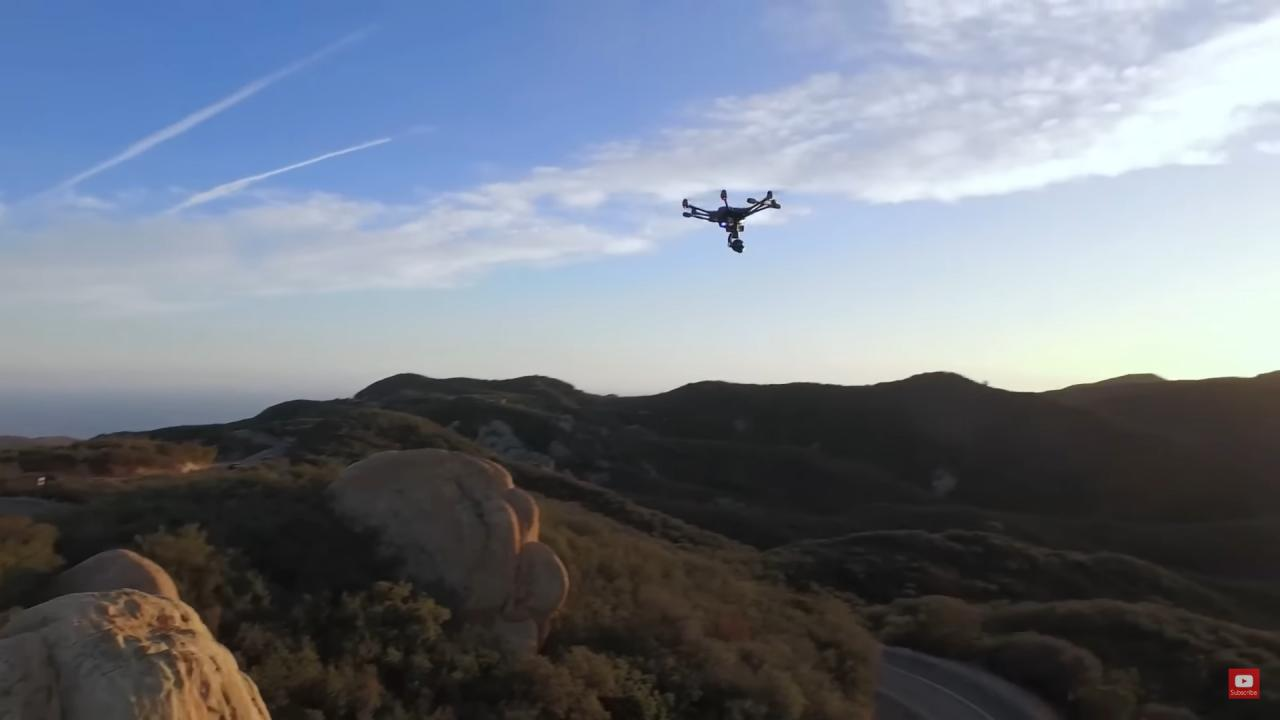Drone: (674, 178, 788, 265)
